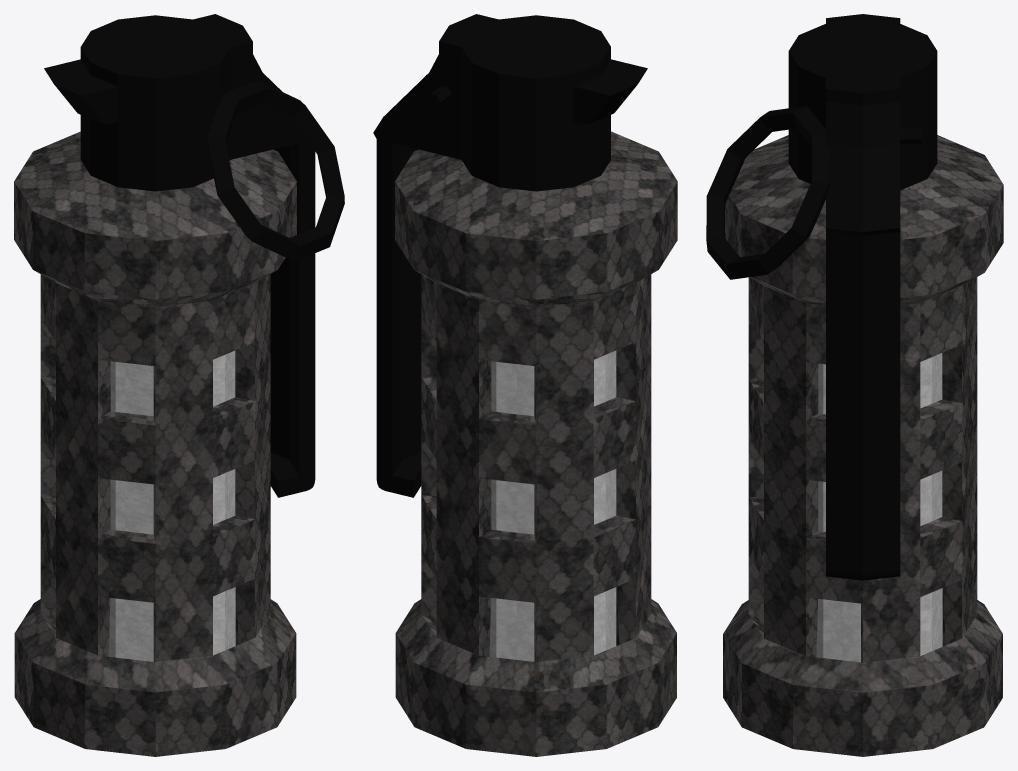
Rendered from Magnetism Grenade V1.fbx.
3 views of the same model, side by side, from view 1: azimuth 30°, elevation 25°; view 2: azimuth 150°, elevation 25°; view 3: azimuth 270°, elevation 25° (orthographic).
Parts seen in each view (by area): view 1: Tackical Grenade Bake.001; view 2: Tackical Grenade Bake.001; view 3: Tackical Grenade Bake.001.
Part boxes in pixels (<box>): Tackical Grenade Bake.001: <box>14,14,344,756</box>; Tackical Grenade Bake.001: <box>373,14,677,756</box>; Tackical Grenade Bake.001: <box>706,14,1003,756</box>.
Bounding box in the file's own units: 383 × 897 × 359.
Materials: 1 (1 with a texture image).
